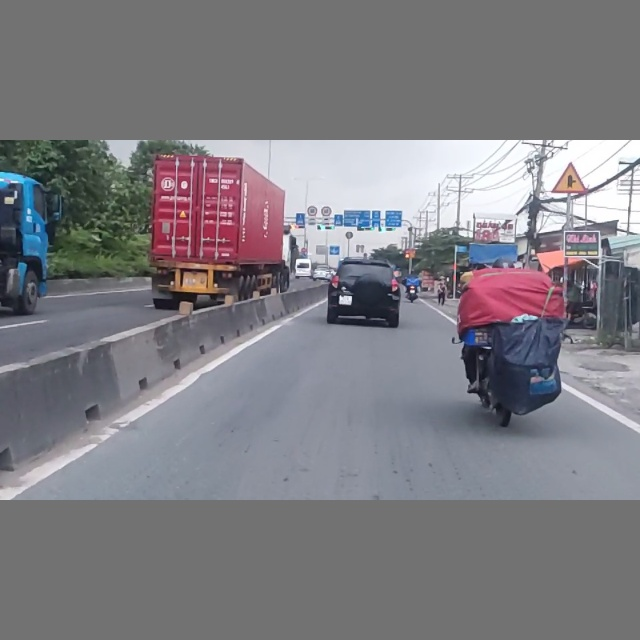P.127*60: (321, 206, 332, 216)
P.127*80: (308, 205, 317, 216)
W.207: (552, 162, 588, 193)
